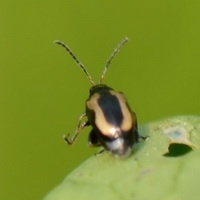insect: (54, 37, 138, 156)
